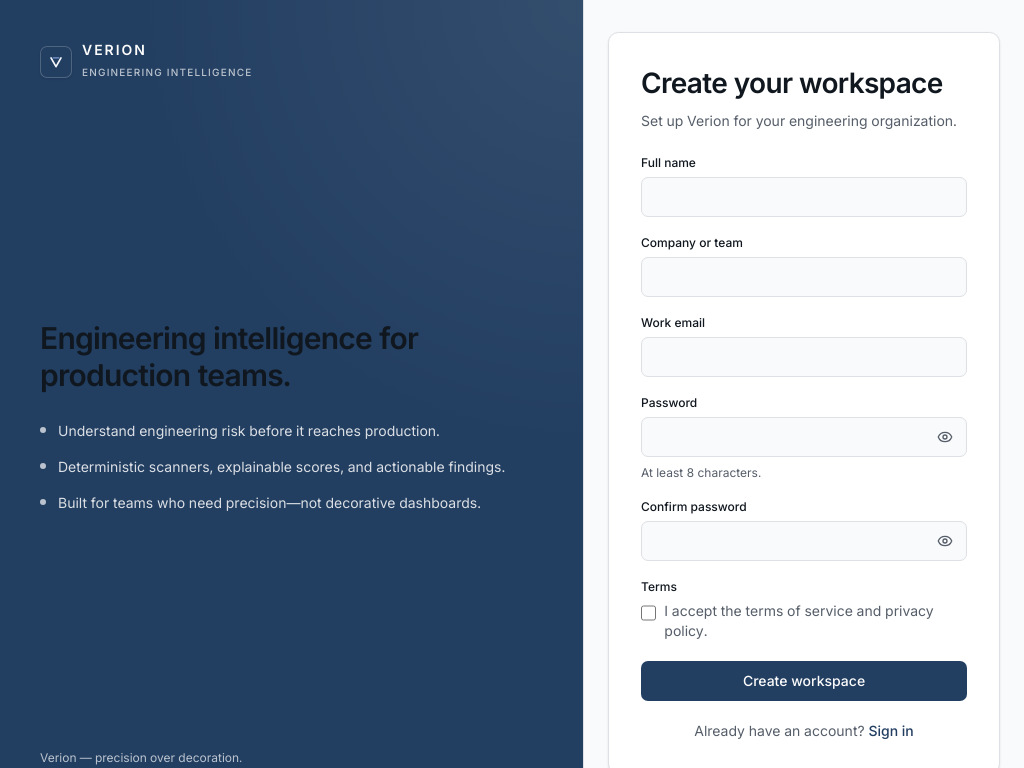
it: SignupPage › shows validation errors for incomplete signup
Click the button "Create workspace": x=804, y=681 [641,661,967,701]
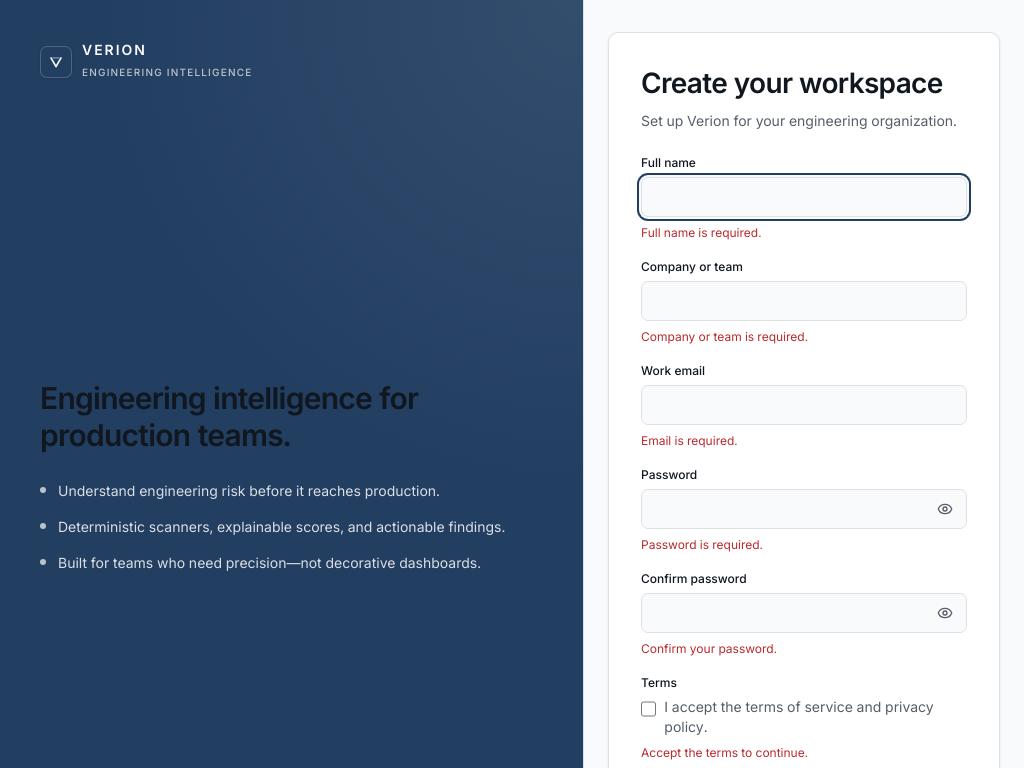
Check: the text "Full name is required." is shown, box [641,225,761,240]
Check: the text "Accept the terms to continue." is shown, box [641,745,808,760]
